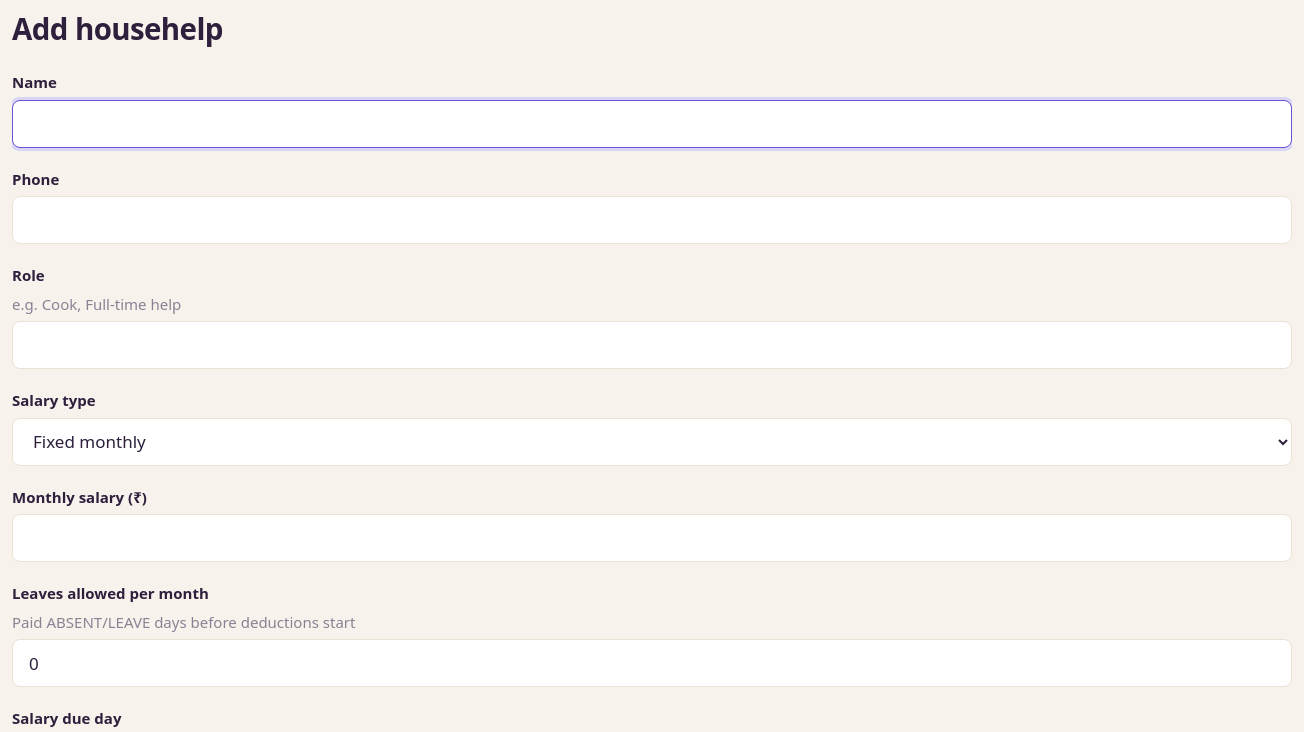
it: HousehelpFormPage — create mode › hides the leaves-allowed field for DAILY_RATE
This screenshot has width=1304, height=732.
expect the field labelled "Name" is shown: met, box [12,100,1292,148]
Select "Daily rate" in the dropdown labelled "Salary type": (652, 442) [12,418,1292,466]
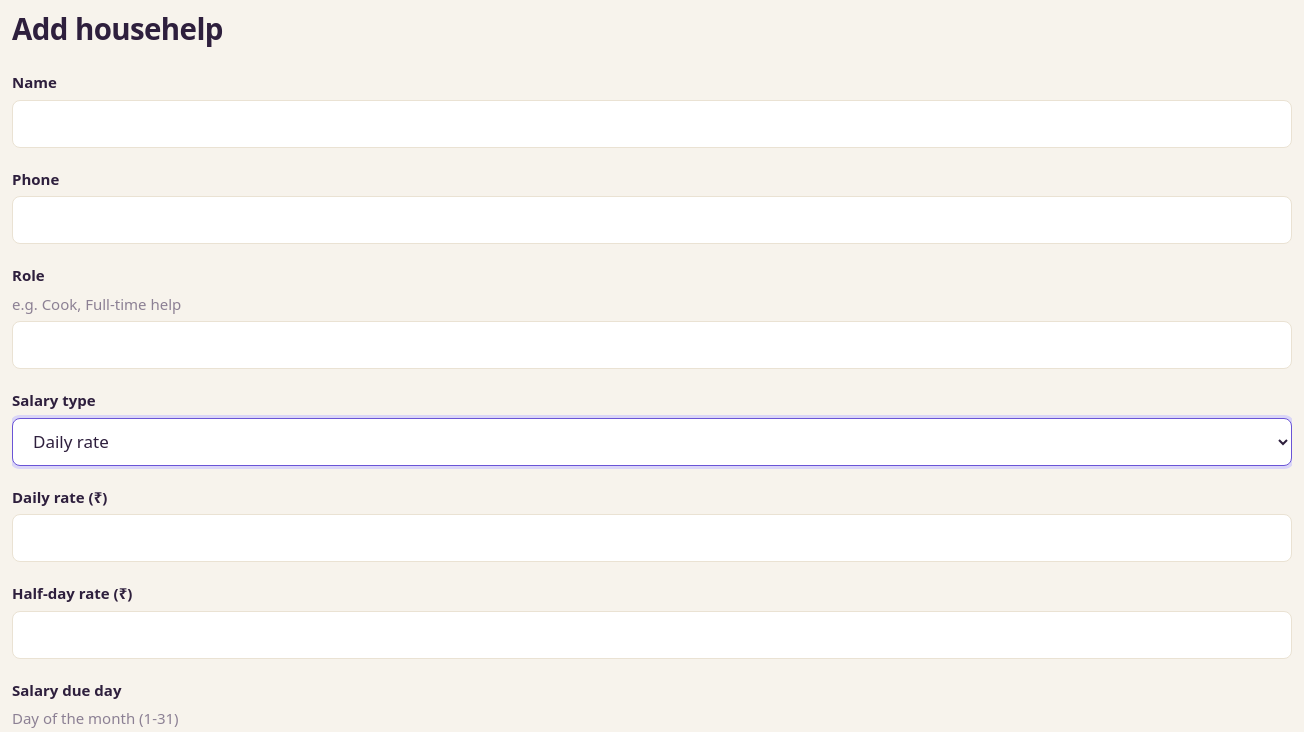
expect the label labelled "Leaves allowed per month" is gone: met
